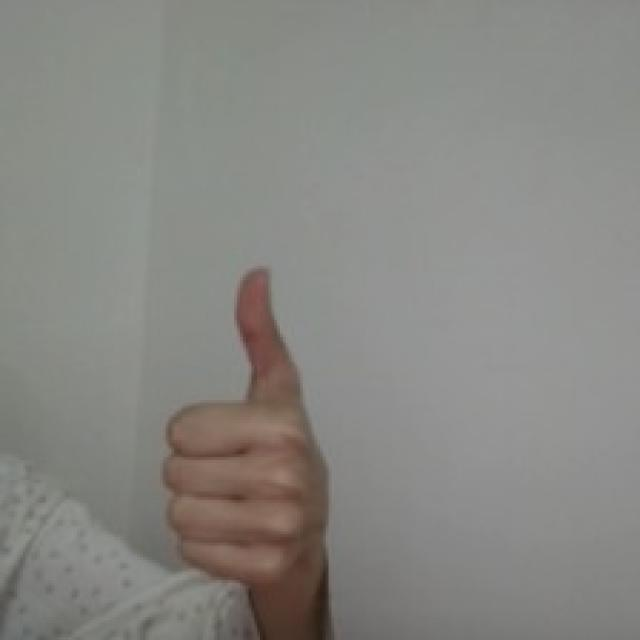fine: (153, 257, 335, 593)
